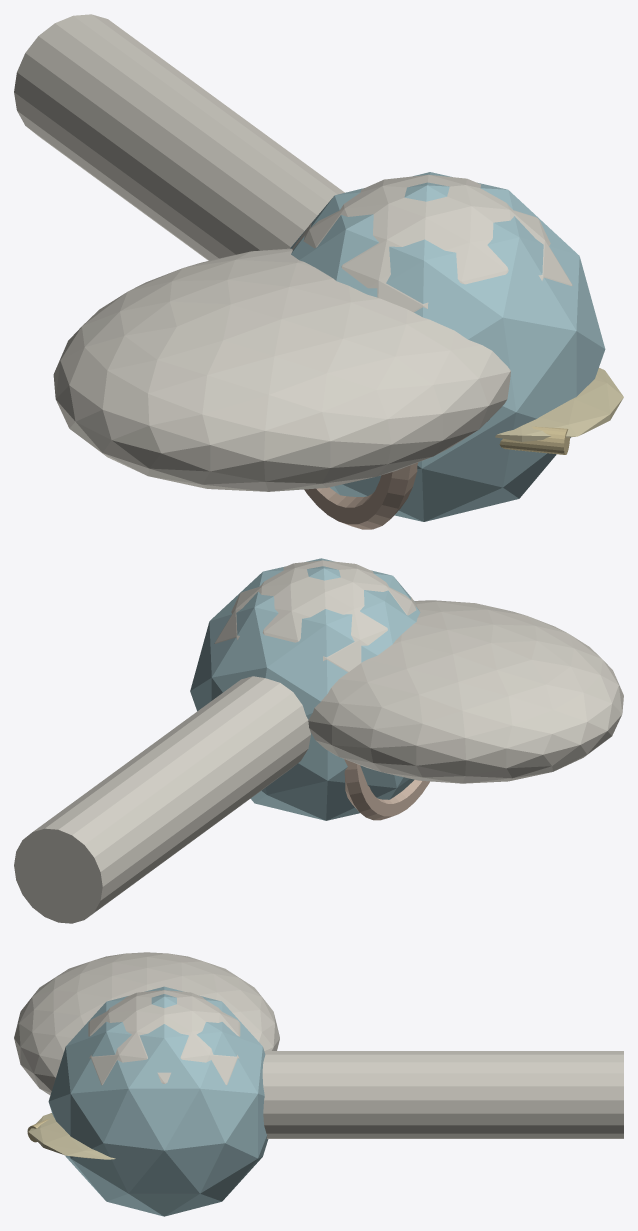
The model's file is shoulder-medium.glb.
The picture shows the model from 3 angles, top to bottom: view 1: azimuth 30°, elevation 25°; view 2: azimuth 150°, elevation 25°; view 3: azimuth 270°, elevation 25°; orthographic projection. The views are drawn at different scales.
Visible parts, largest first — view 1: scapula_proxy, humerus, shoulder_cartilage_proxy, humeral_head, biceps_tendon_proxy, glenoid_labrum_proxy, shoulder_ligament_proxy; view 2: scapula_proxy, humerus, shoulder_cartilage_proxy, humeral_head, glenoid_labrum_proxy; view 3: shoulder_cartilage_proxy, humerus, scapula_proxy, humeral_head, biceps_tendon_proxy.
Boxes of the visible parts, left/top/right/bottom form: scapula_proxy: left=53, top=248, right=510, bottom=491; humerus: left=14, top=14, right=344, bottom=260; shoulder_cartilage_proxy: left=290, top=172, right=605, bottom=521; humeral_head: left=292, top=174, right=572, bottom=312; biceps_tendon_proxy: left=495, top=368, right=623, bottom=441; glenoid_labrum_proxy: left=304, top=462, right=417, bottom=529; shoulder_ligament_proxy: left=499, top=426, right=569, bottom=454; scapula_proxy: left=308, top=600, right=623, bottom=783; humerus: left=14, top=676, right=310, bottom=923; shoulder_cartilage_proxy: left=190, top=558, right=420, bottom=820; humeral_head: left=214, top=560, right=418, bottom=672; glenoid_labrum_proxy: left=344, top=759, right=430, bottom=820; shoulder_cartilage_proxy: left=48, top=986, right=268, bottom=1216; humerus: left=262, top=1051, right=623, bottom=1138; scapula_proxy: left=14, top=952, right=279, bottom=1095; humeral_head: left=88, top=990, right=240, bottom=1085; biceps_tendon_proxy: left=28, top=1113, right=115, bottom=1159.
Bounding box in the file's own units: 1.58 × 0.94 × 2.48.
